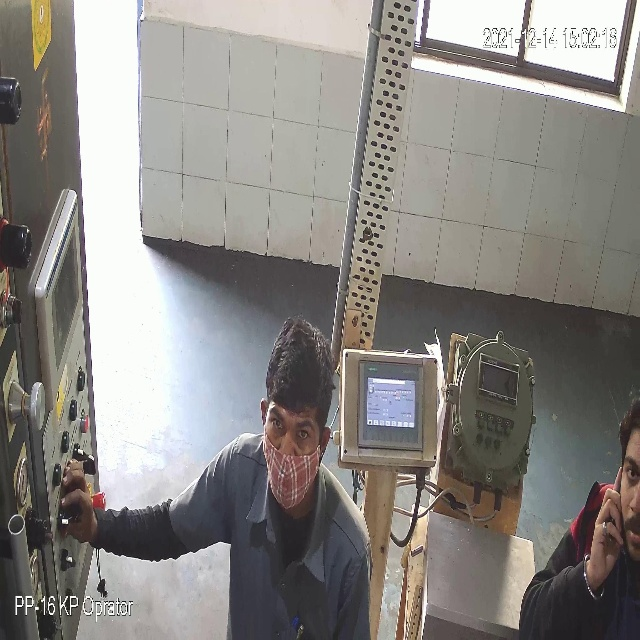Sin_gafas: (267, 410, 319, 460)
